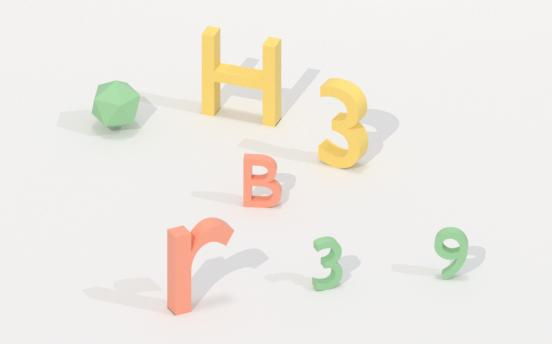3: (315, 82, 373, 171), (310, 234, 348, 292)
9: (431, 225, 474, 280)
H-hoa: (199, 26, 288, 128)
R: (160, 220, 248, 321)
b: (238, 152, 286, 212)
dagiac: (88, 80, 146, 131)
